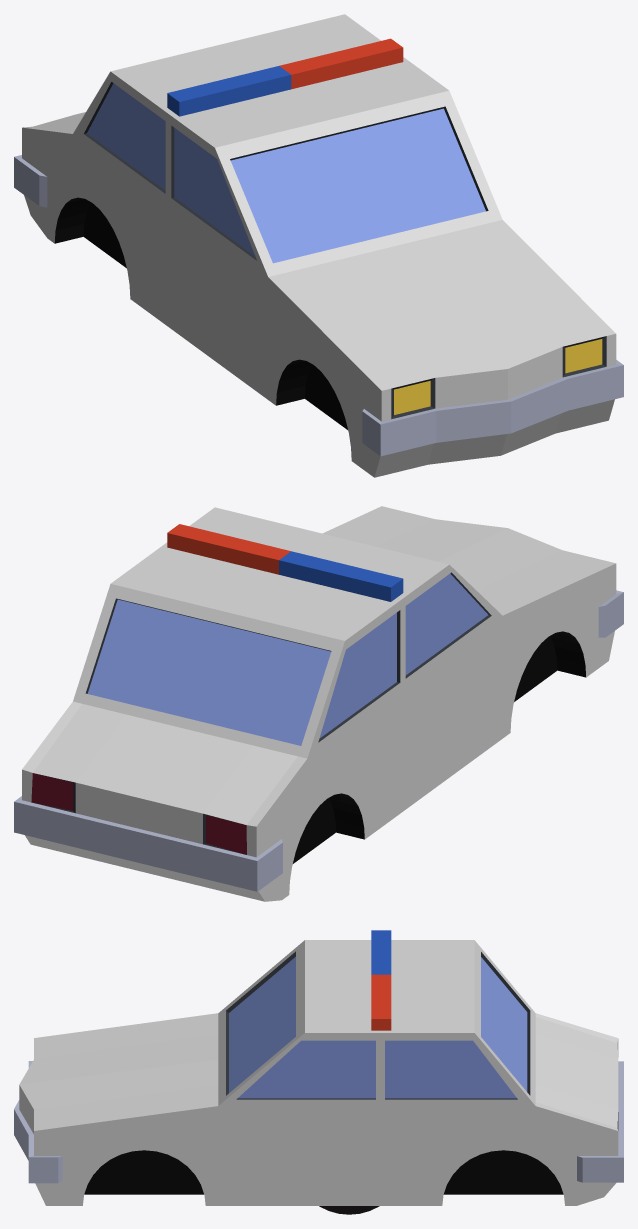
Rendered from copcar.glb.
The picture shows the model from 3 angles, top to bottom: view 1: azimuth 30°, elevation 25°; view 2: azimuth 150°, elevation 25°; view 3: azimuth 270°, elevation 25°; orthographic projection. The views are drawn at different scales.
Visible parts, largest first — view 1: base, Cube; view 2: base, Cube; view 3: base, Cube.
Part boxes in pixels (<box>): base: <box>14,14,623,477</box>; Cube: <box>167,38,403,116</box>; base: <box>14,506,623,901</box>; Cube: <box>167,524,403,601</box>; base: <box>14,940,623,1205</box>; Cube: <box>371,930,391,1030</box>.
Size of the model in its own units: 2.07 by 2.35 by 5.54.
2 materials, 1 textured.
